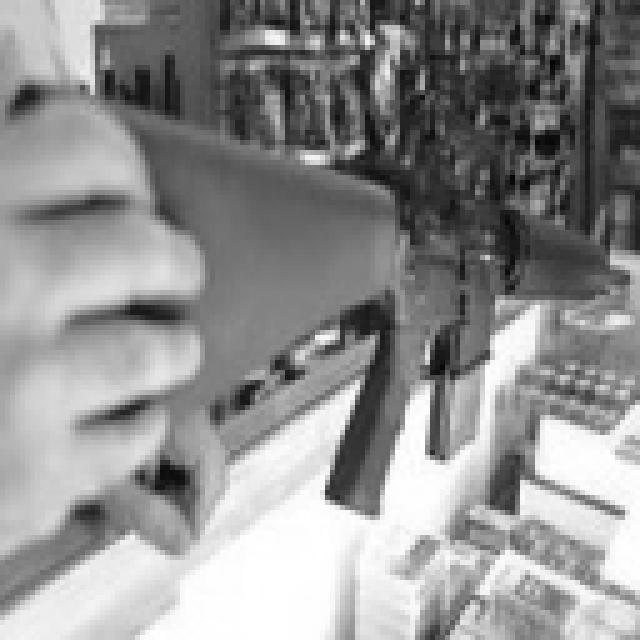Rifle: (0, 41, 634, 548)
